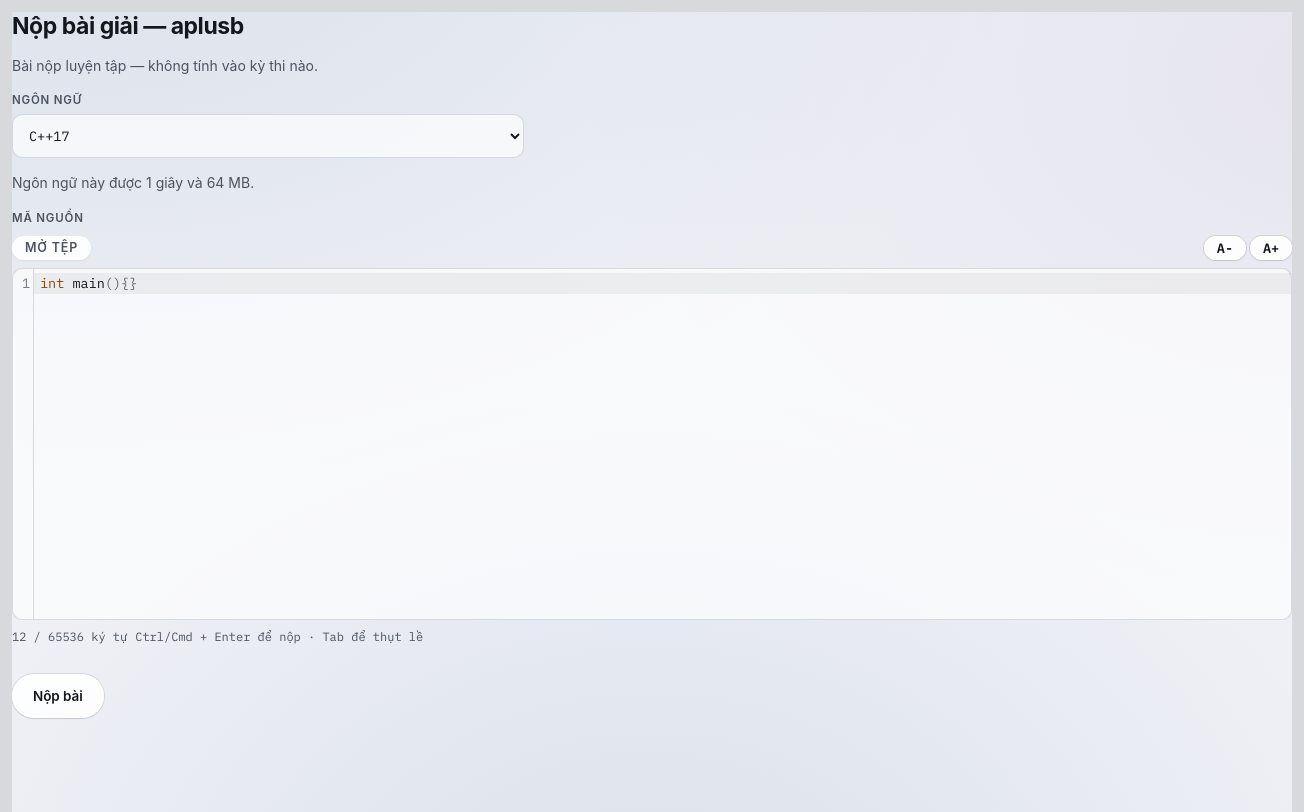
it: SubmitPage on a 429 › still cools down when the header is missing, rather than inviting an instant retry
What coordinates should you click on to do the following:
click the button "Nộp bài"
I would click on:
 (58, 696)
Its box is [12,674,104,718].
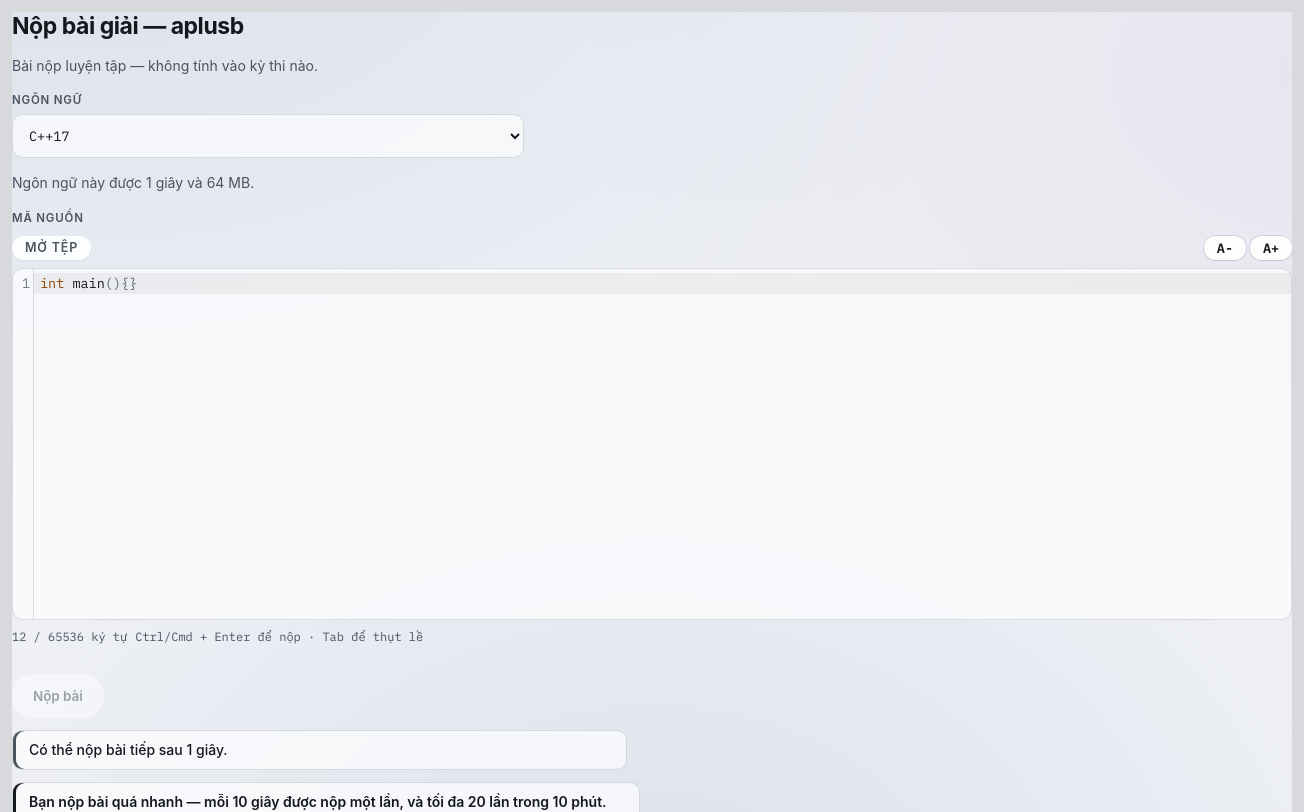
Expected: the button "Nộp bài" is disabled, [12,674,104,718]
